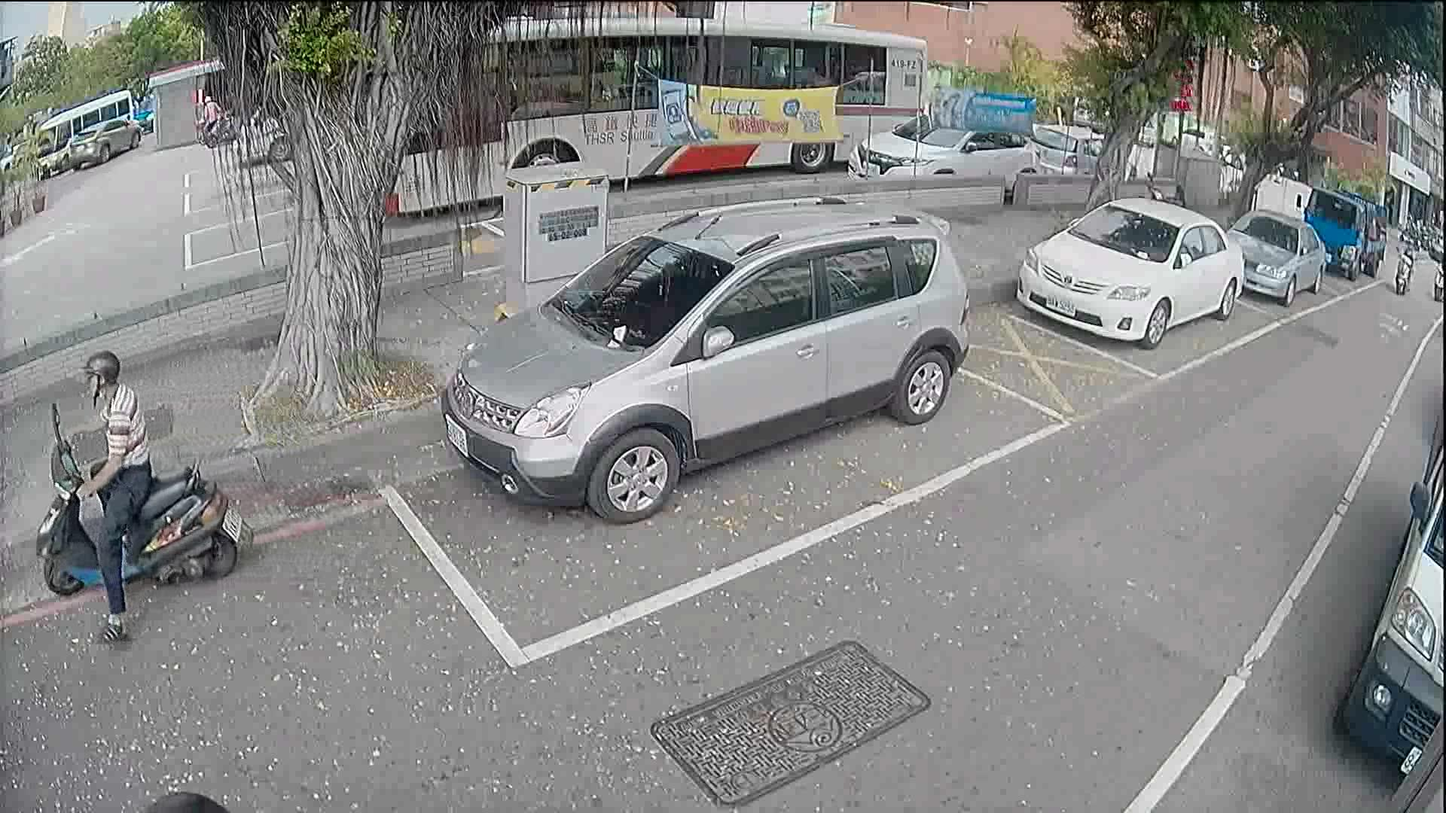person: (56, 341, 165, 643), (134, 782, 235, 812), (200, 92, 224, 130), (1399, 238, 1416, 275)
